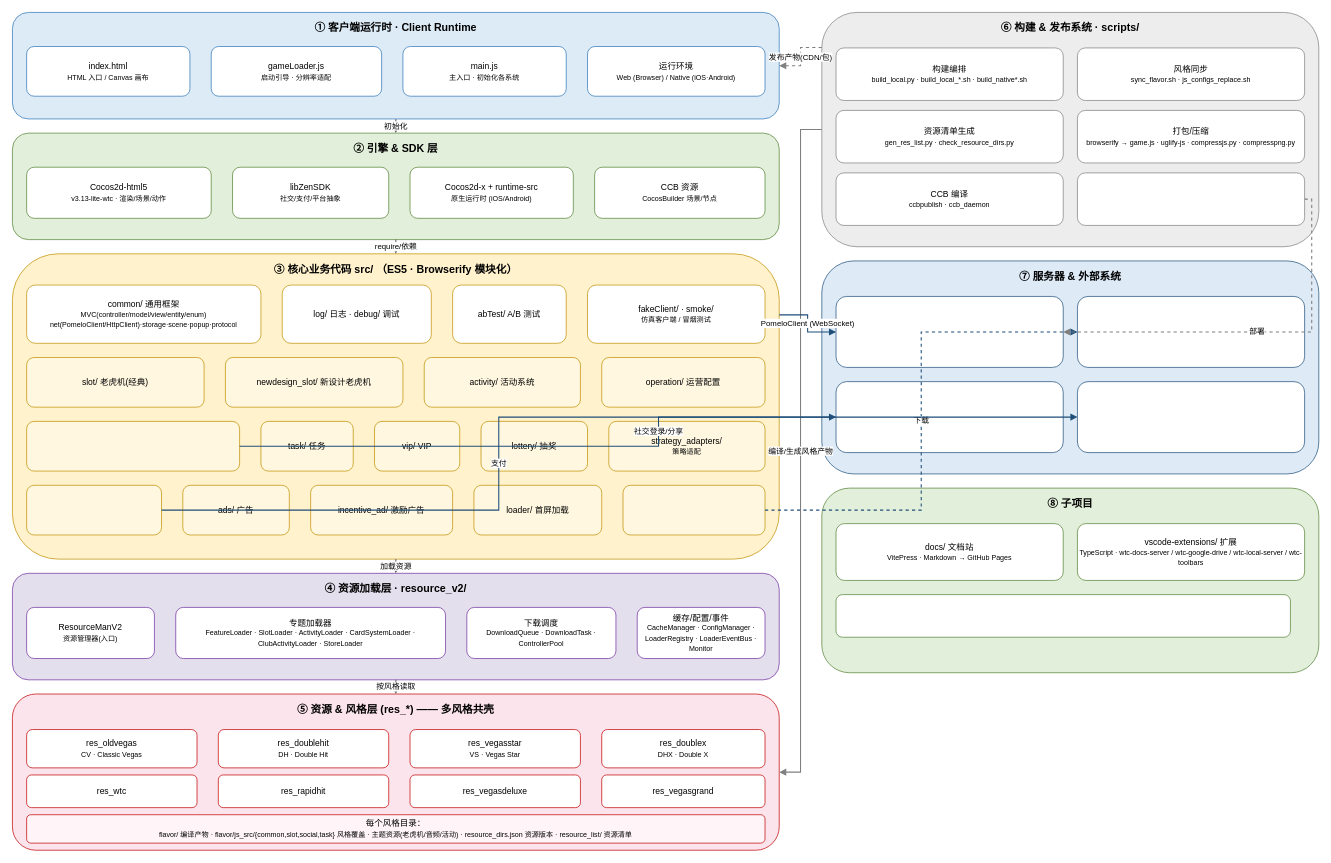
Image size: 1331x863. Some labels were removed from this diagram. Here are the shapes that lost their labels. From the top down, the centre of each, then its label:
At point (1191, 198): "部署/发布 deploy_*.sh · 热更新 hotfix".
At point (949, 331): "Pomelo 游戏服务器 WebSocket · 协议注册(ProtocolRegistry) · 心跳/重连".
At point (1191, 331): "CDN / 资源服务器 分块下载 · 热更新资源".
At point (949, 417): "支付 AppCharge · Checkout.com (appcharge.js · ckocharge.js)".
At point (1191, 417): "社交平台 Facebook SDK (zen_facebook.js)".
At point (133, 446): "social/ 社交 含 CardSystem 收集系统".
At point (94, 510): "store/ 商店·内购".
At point (693, 510): "resource_v2/ 资源加载 V2 (详见④)".
At point (1062, 615): "子仓库(Submodule)： frameworks/cocos2d-html5 · frameworks/cocos2d-x · libZenSDK".
